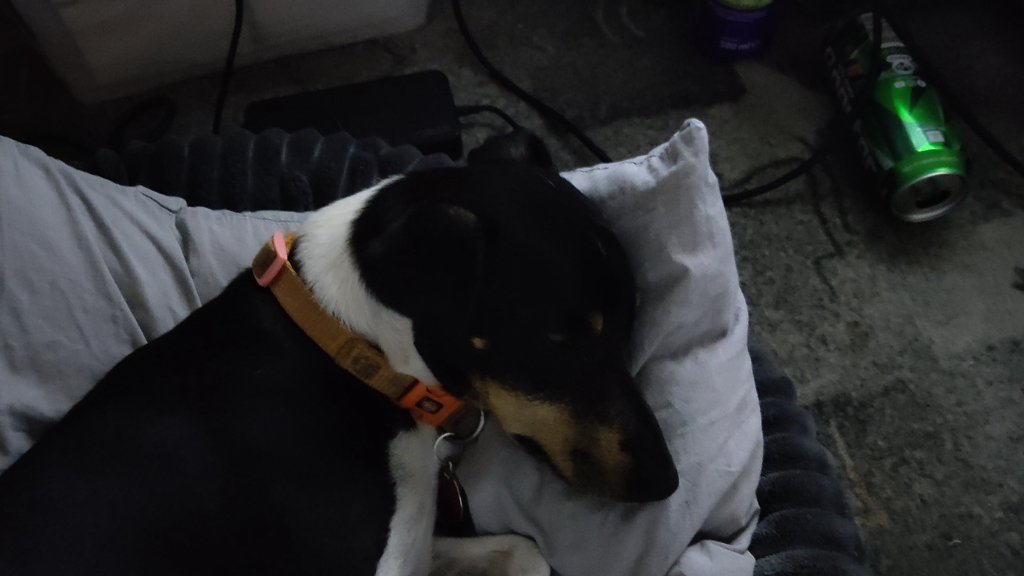Dog: (0, 117, 700, 576)
